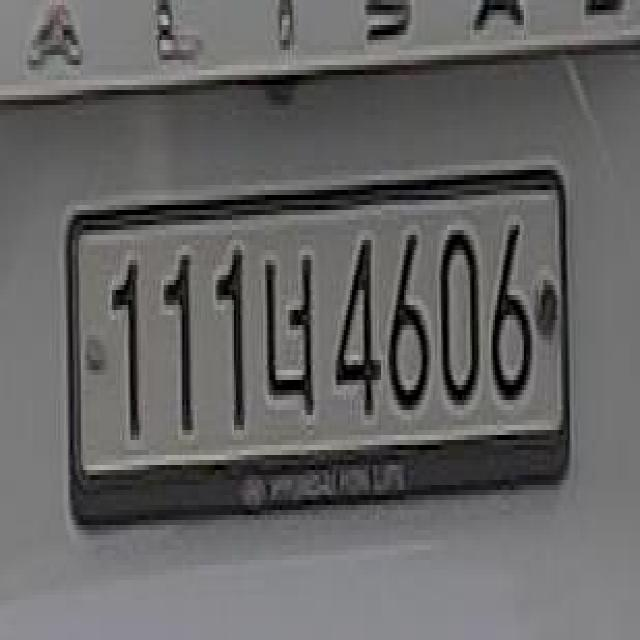illegal_plate: (61, 164, 569, 529)
